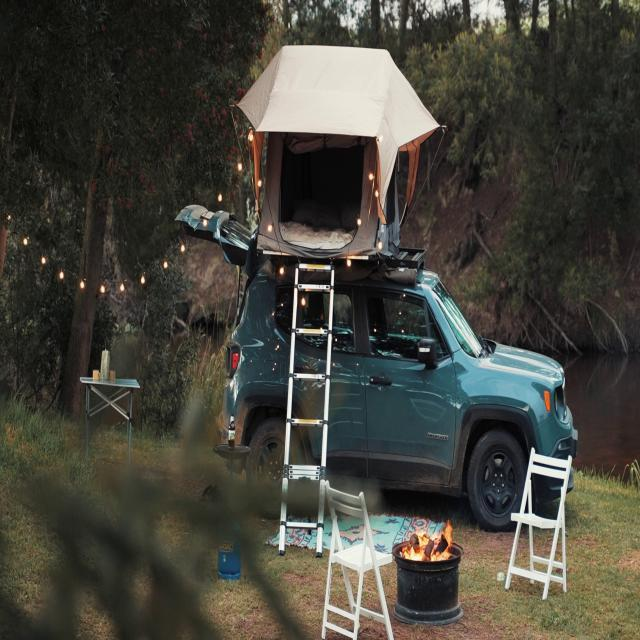Fire: (405, 514, 454, 564)
